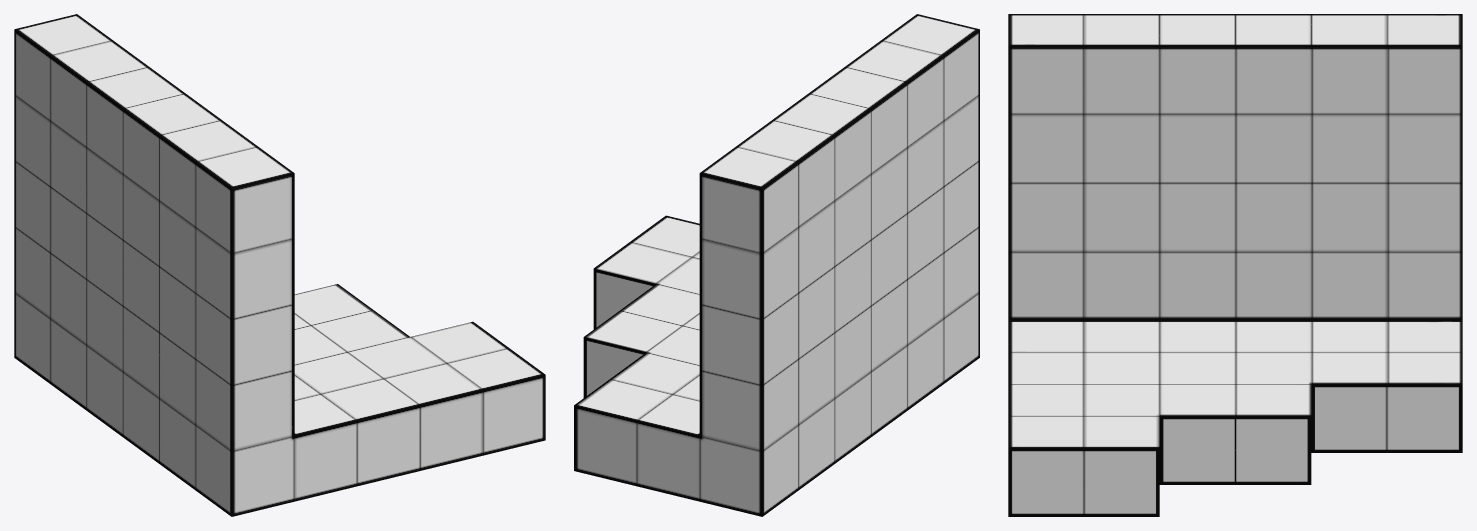
Rendered from fig9.glb.
3 renders of one model, left to right at view 1: azimuth 30°, elevation 25°; view 2: azimuth 150°, elevation 25°; view 3: azimuth 270°, elevation 25°, orthographic. The views are drawn at different scales.
Visible parts, largest first — view 1: root; view 2: root; view 3: root.
Boxes of the visible parts, bbox=[...] form: root: bbox=[14, 14, 545, 516]; root: bbox=[574, 14, 979, 516]; root: bbox=[1008, 14, 1462, 516].
Size of the model in its own units: 0.05 by 0.05 by 0.06.
9 materials, 9 textured.
